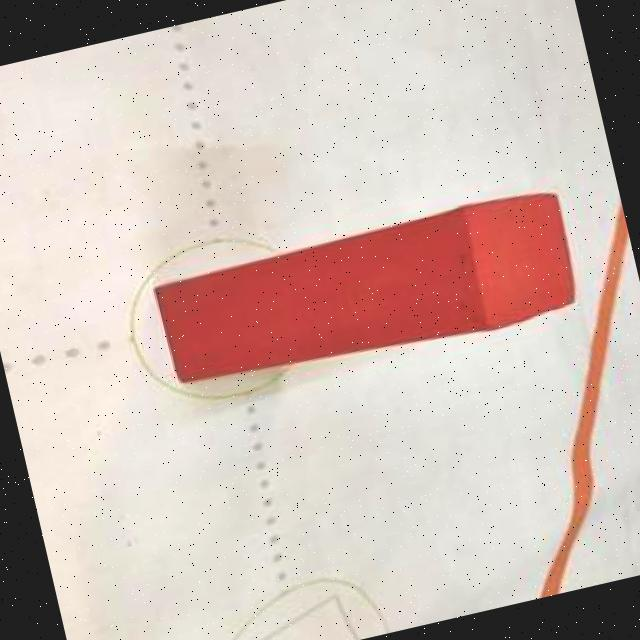redbox: (154, 187, 584, 400)
